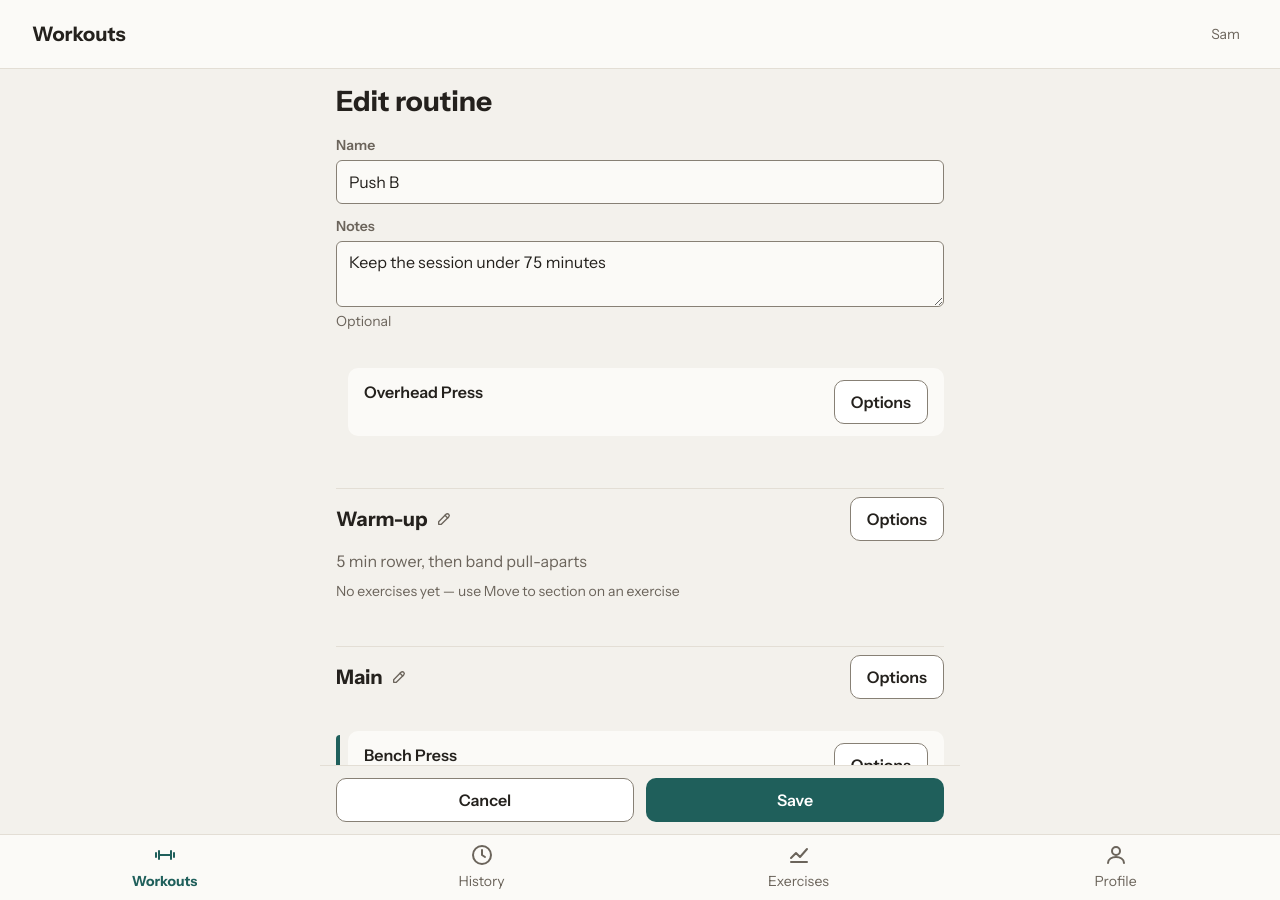
Test case: 10.3 AC16 — the section sheet › Done commits name and note; Close discards
Click the button "Main": (371, 677) 336,655 -> 407,699
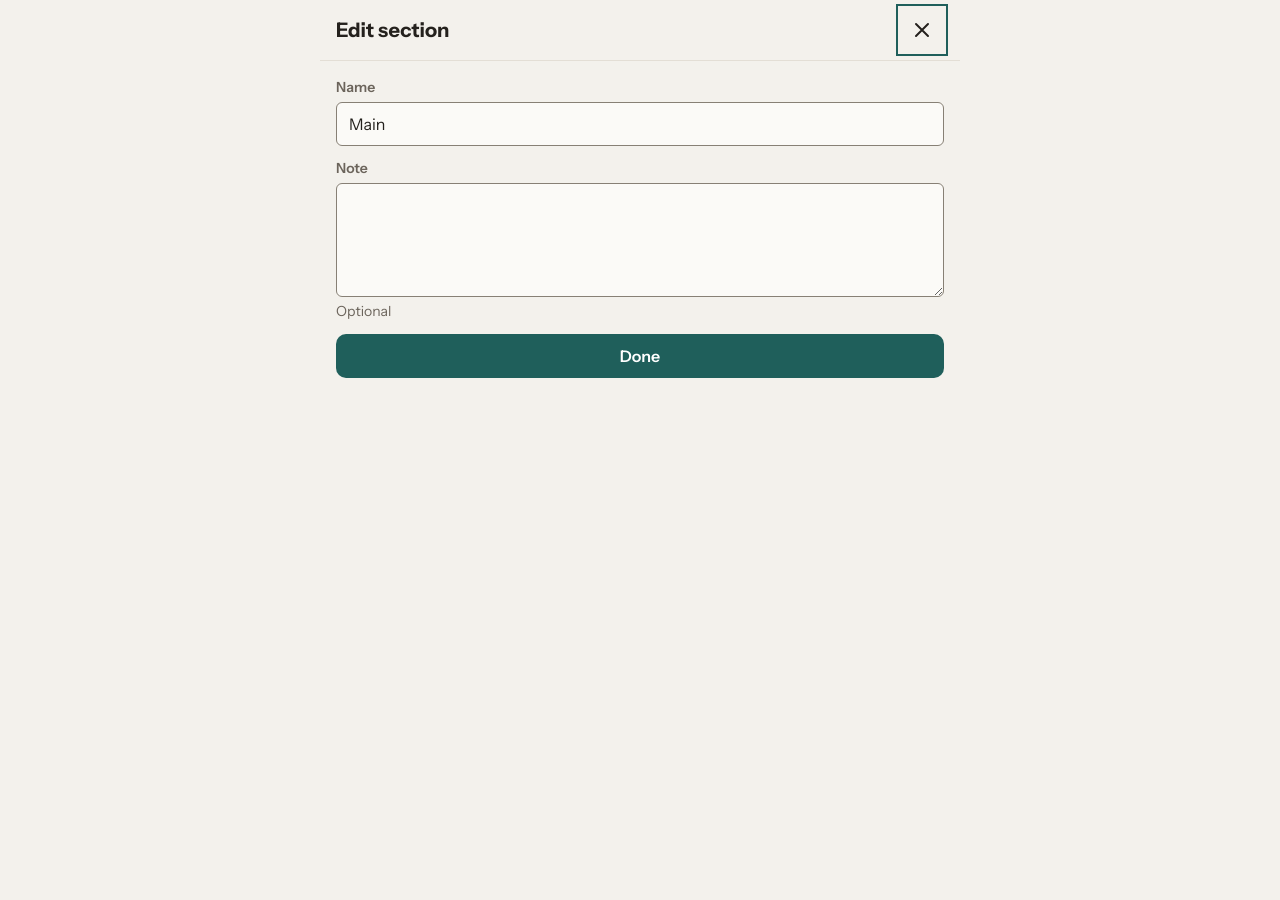
Replace the text in the field labelled "Name" with "Heavy": (640, 124) 336,102 -> 944,146
In the text box labelled "Note": (640, 240) 336,183 -> 944,297, type "Pause every rep"
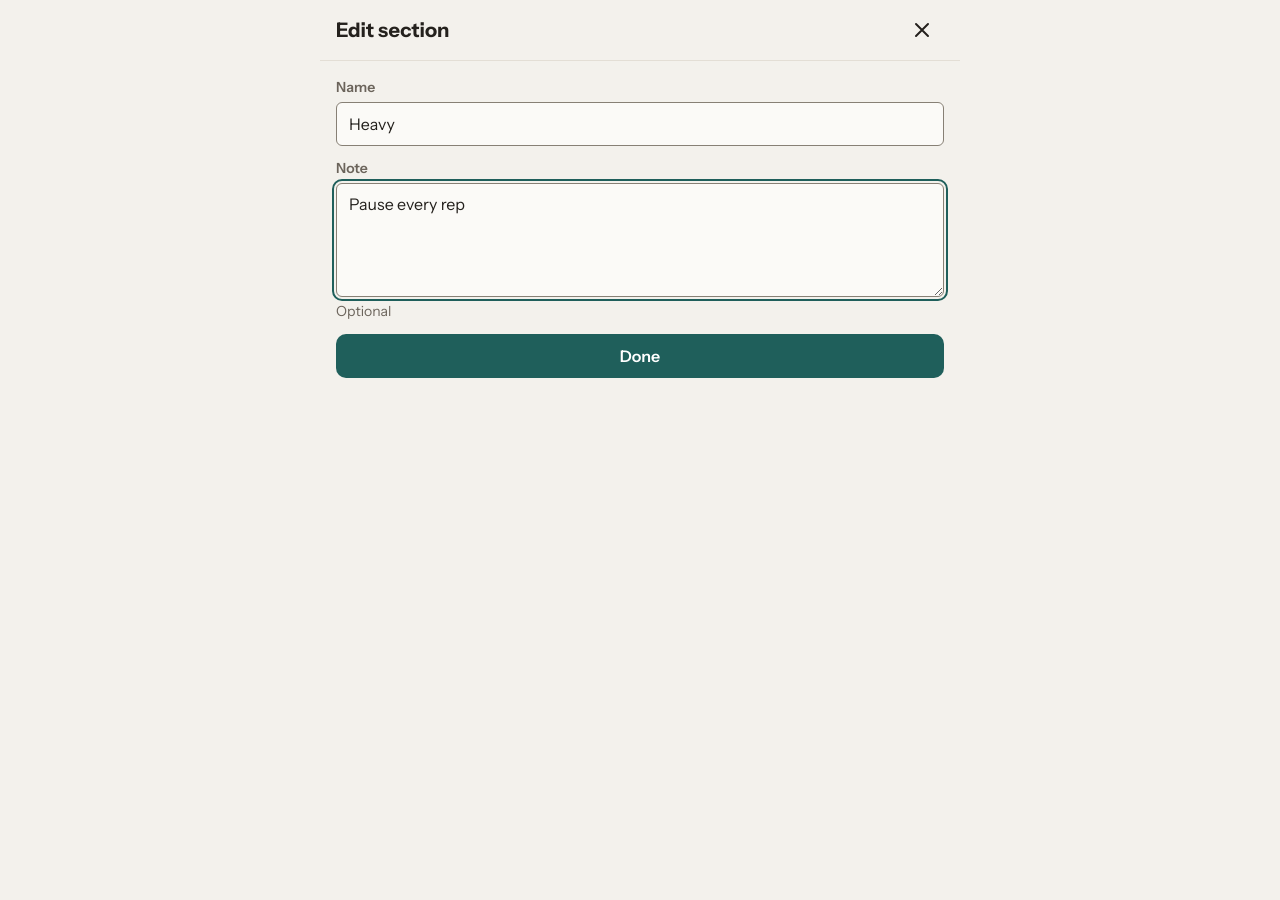
Click the button named "Close": (922, 30) 900,8 -> 944,52
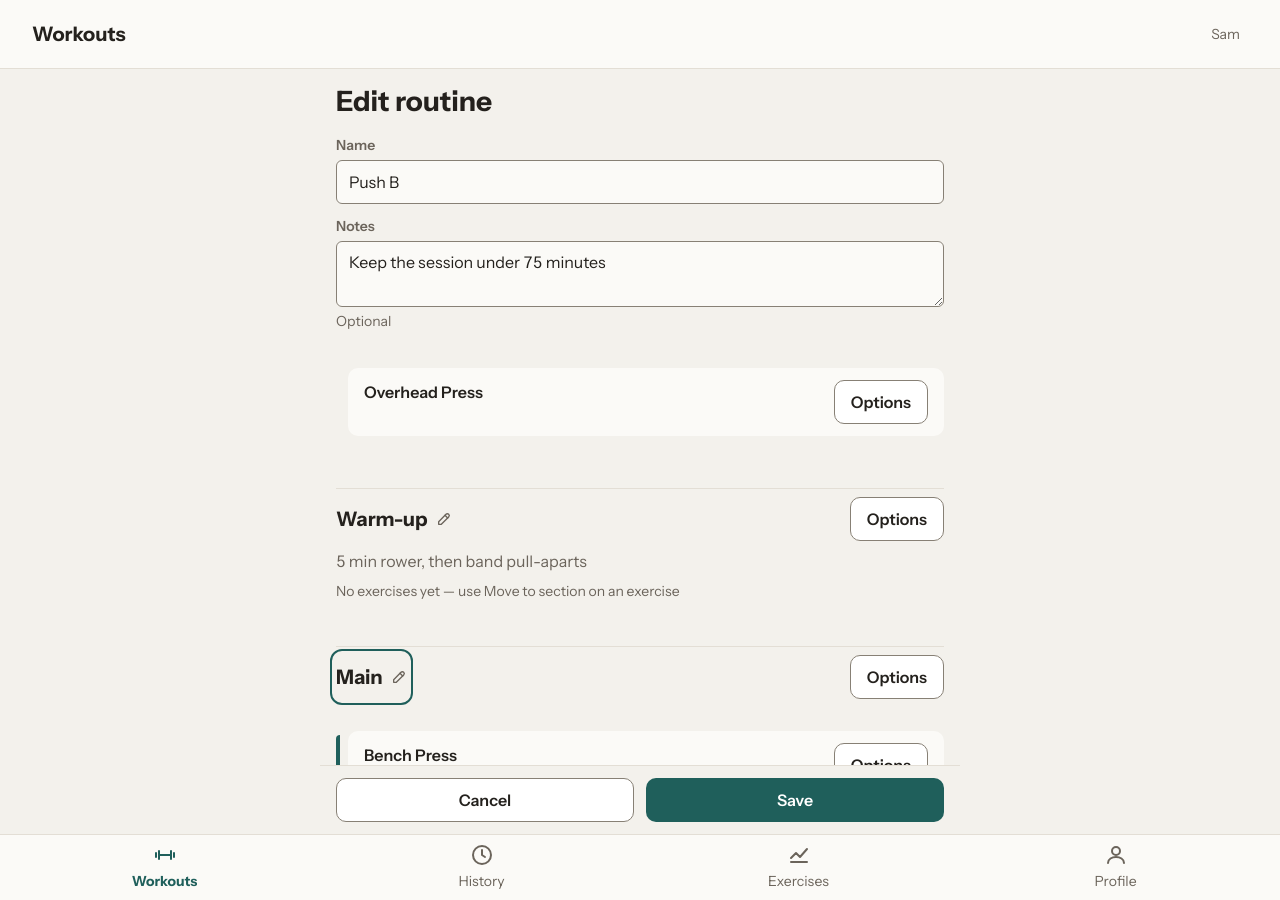
Click the button "Main": (371, 677) 336,655 -> 407,699
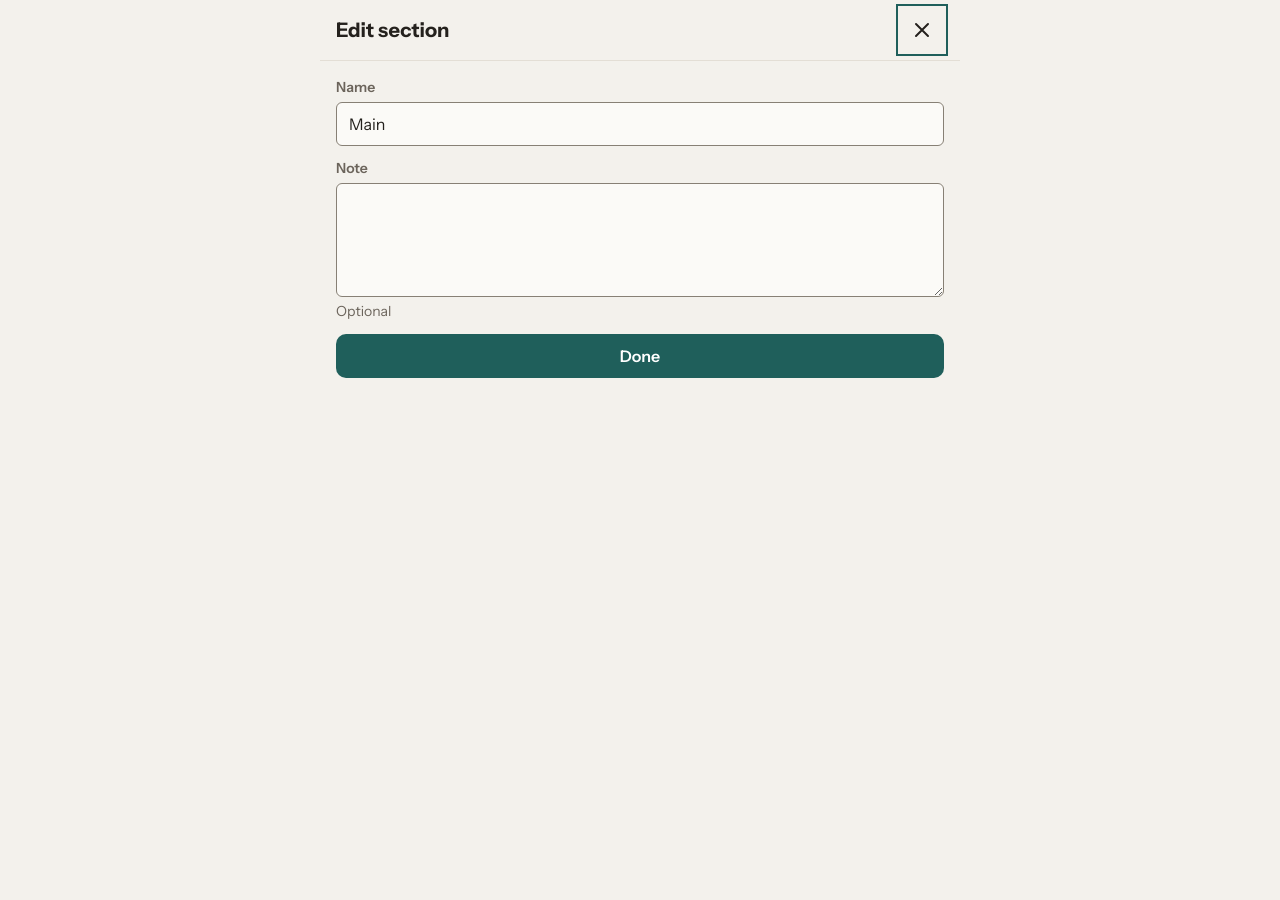
Replace the text in the field labelled "Name" with "Heavy": (640, 124) 336,102 -> 944,146
In the text box labelled "Note": (640, 240) 336,183 -> 944,297, type "Pause every rep"
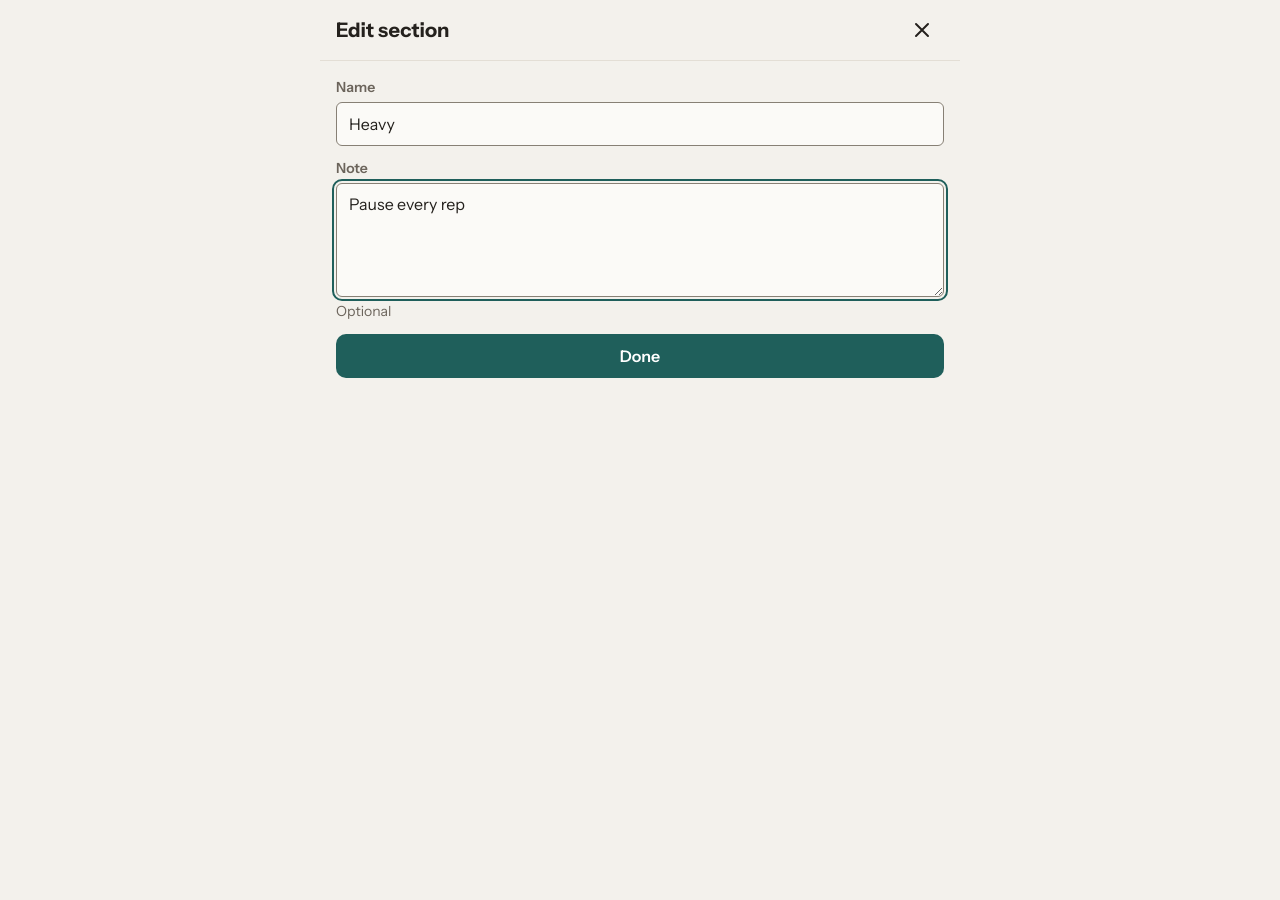
Click the button "Done": (640, 356) 336,334 -> 944,378
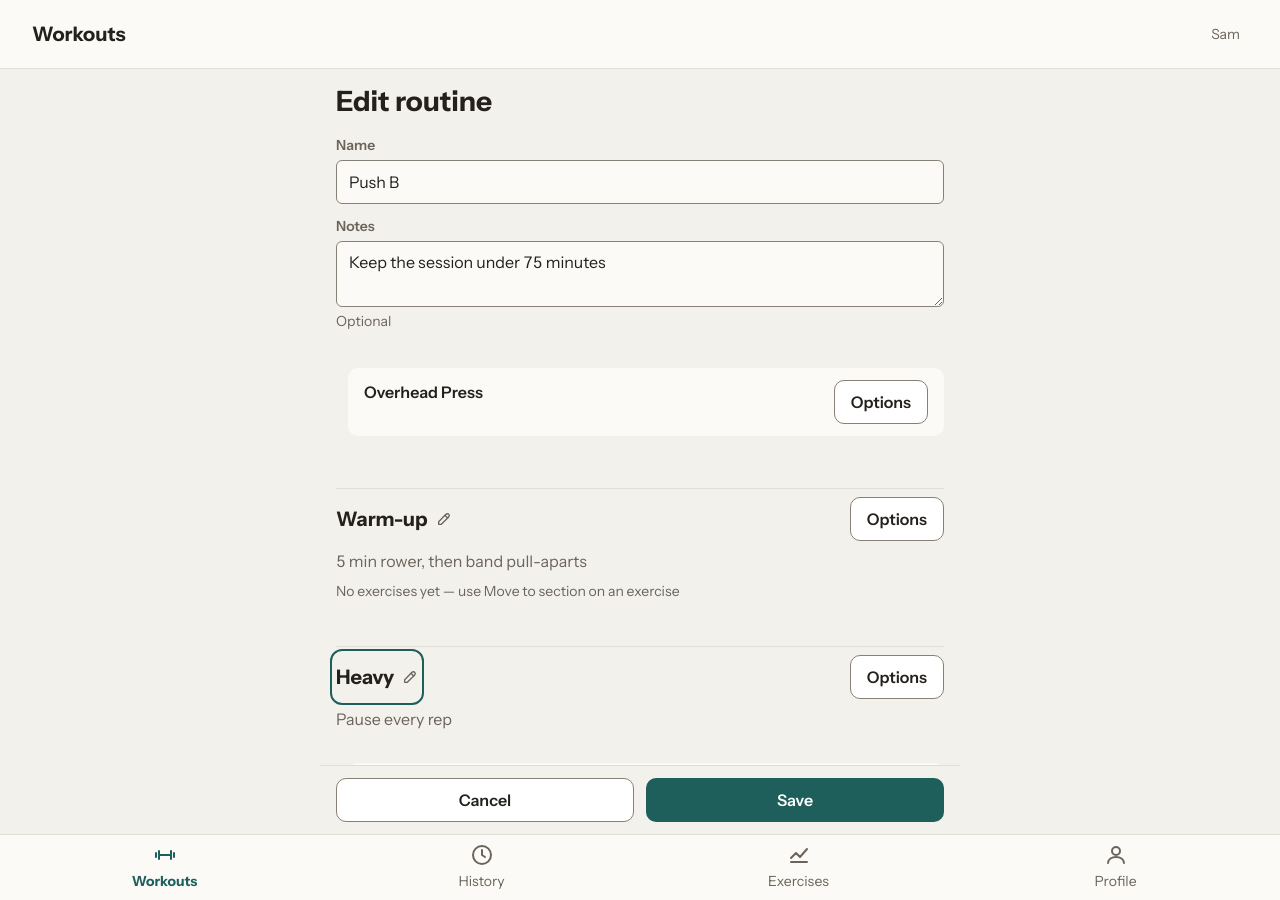
expect the text "Pause every rep" is shown: met, box 336,709 -> 452,729
